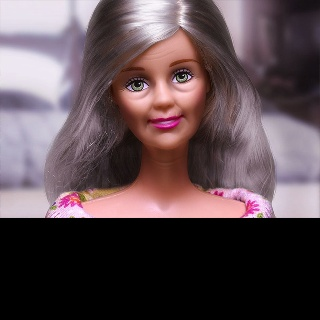without_mask: (114, 29, 206, 150)
